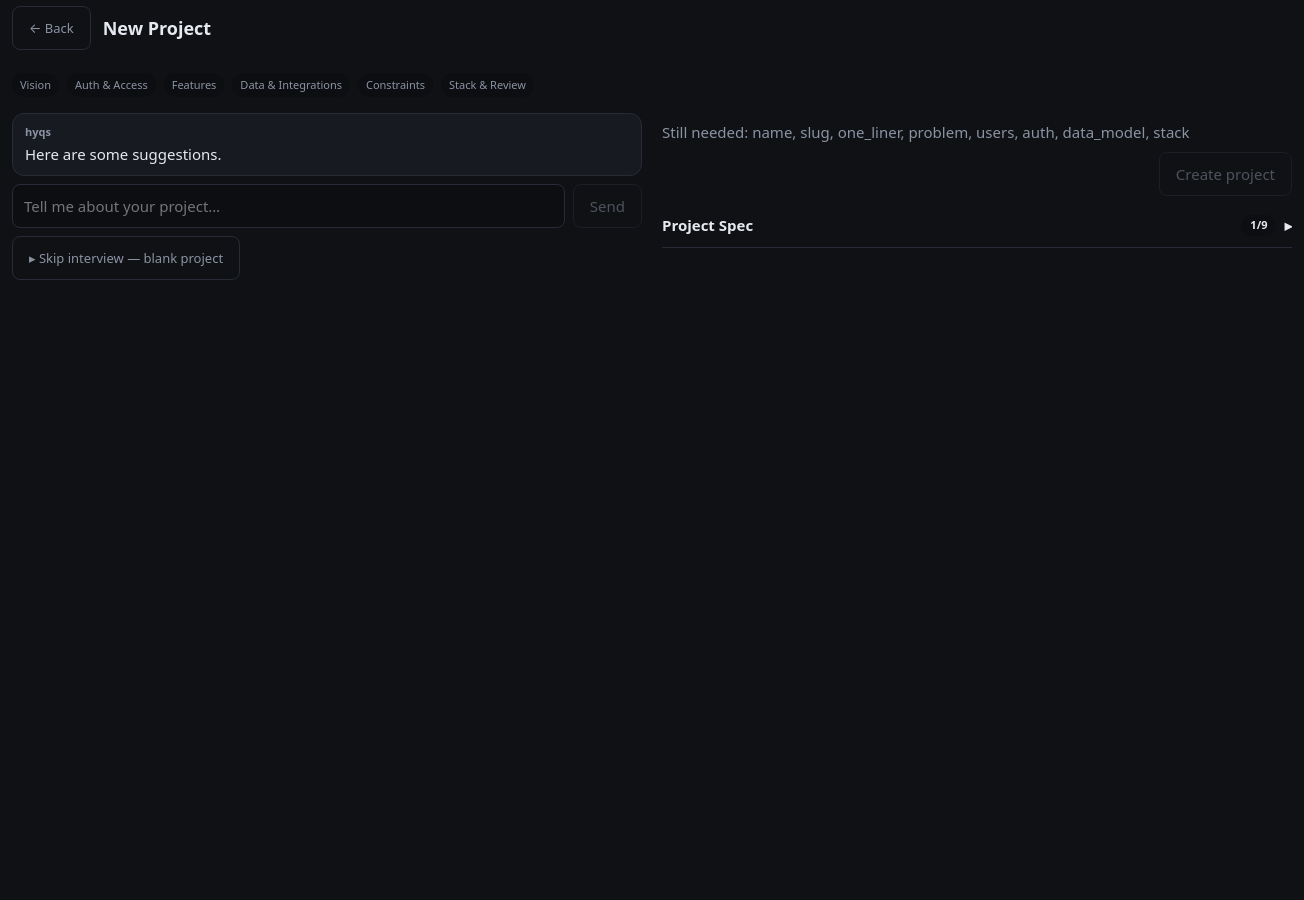
Scenario: IntakeView suggested features › renders a suggested feature with feat-suggested class and Suggested badge
The width and height of the screenshot is (1304, 900).
Click the element with class "intake-spec-head": [977, 226] box [662, 204, 1292, 248]
(page scrolled)
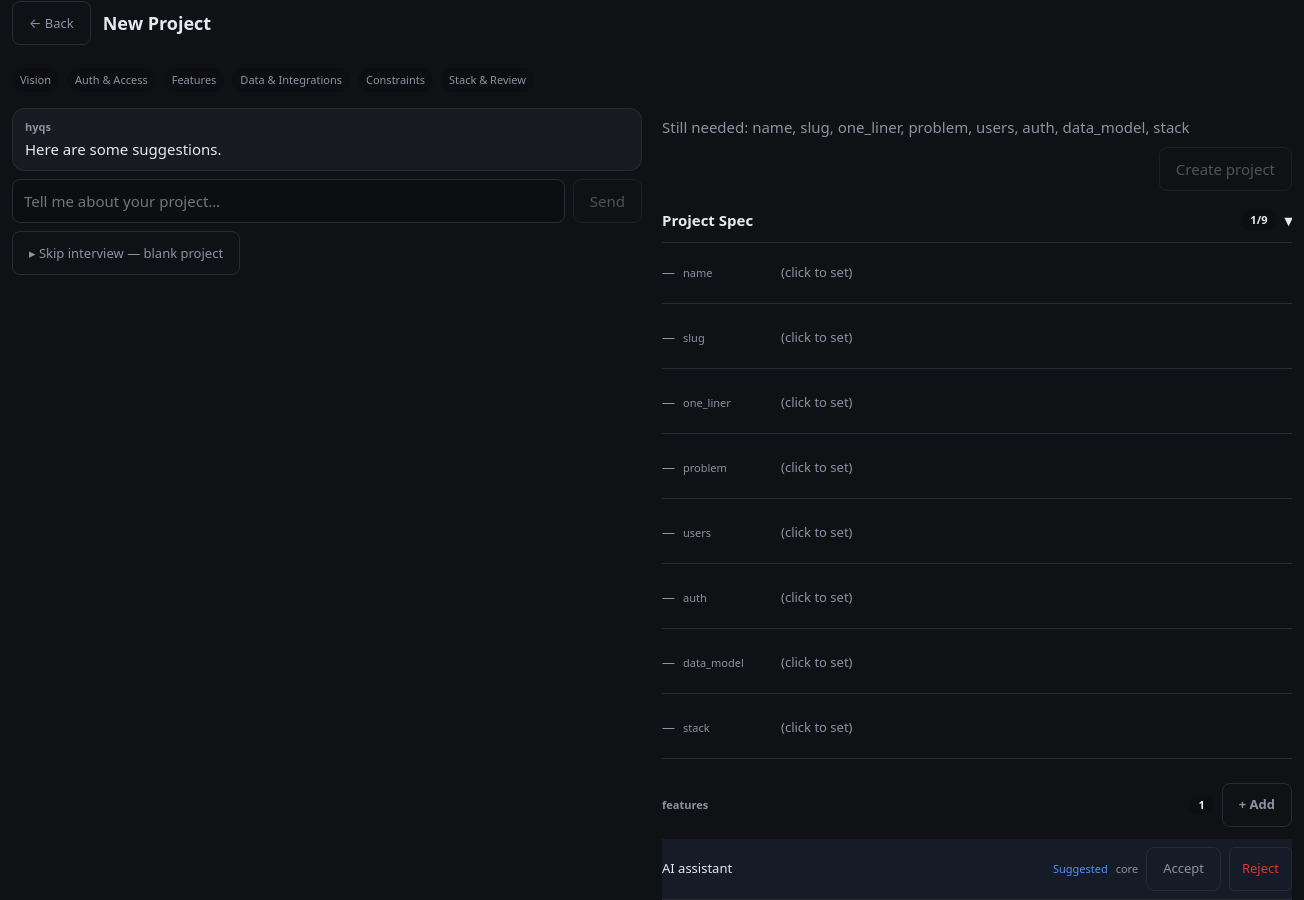
Result: the element with class "spec-feature-row" shows "Suggested" at [1053, 861, 1108, 876]
